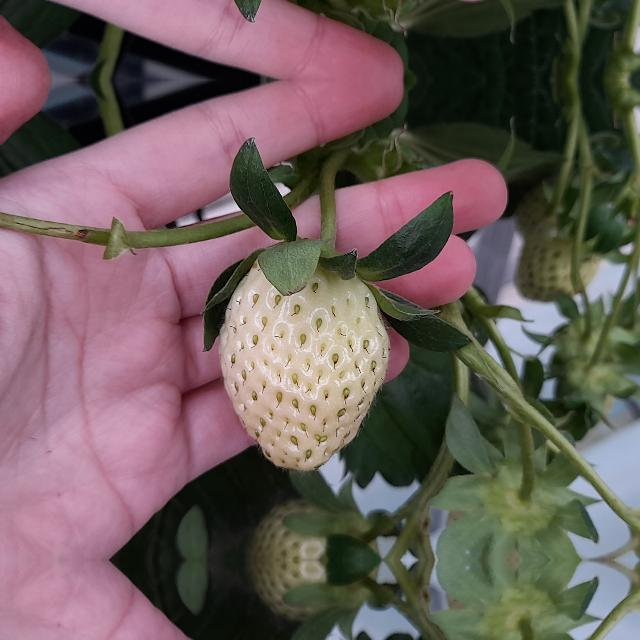Health_50: (219, 258, 389, 470)
